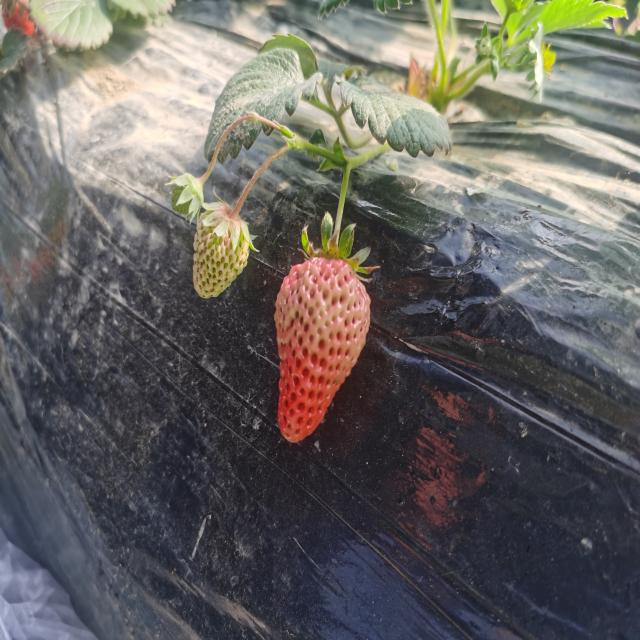stem: (329, 182, 348, 255)
strawberry: (274, 249, 371, 443)
